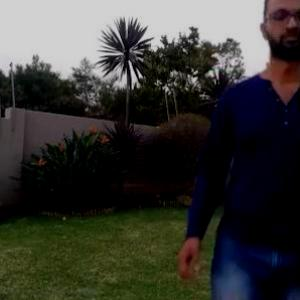follow: (205, 3, 299, 299)
